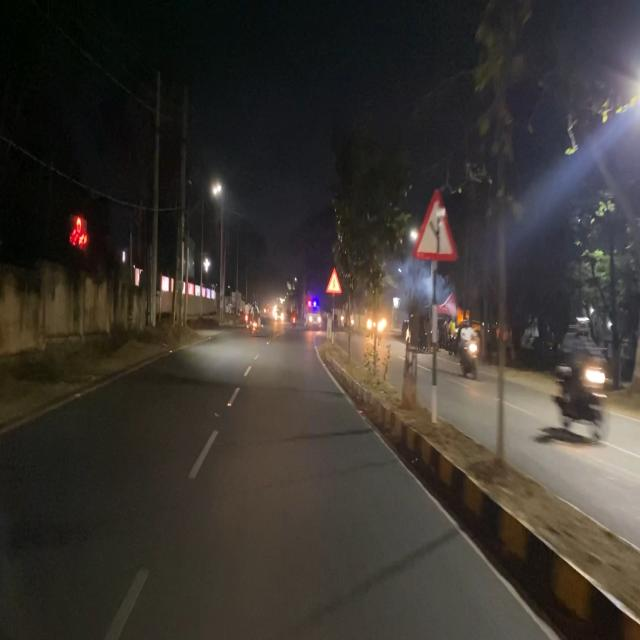bien_cam: (414, 190, 458, 265), (326, 267, 343, 297)
